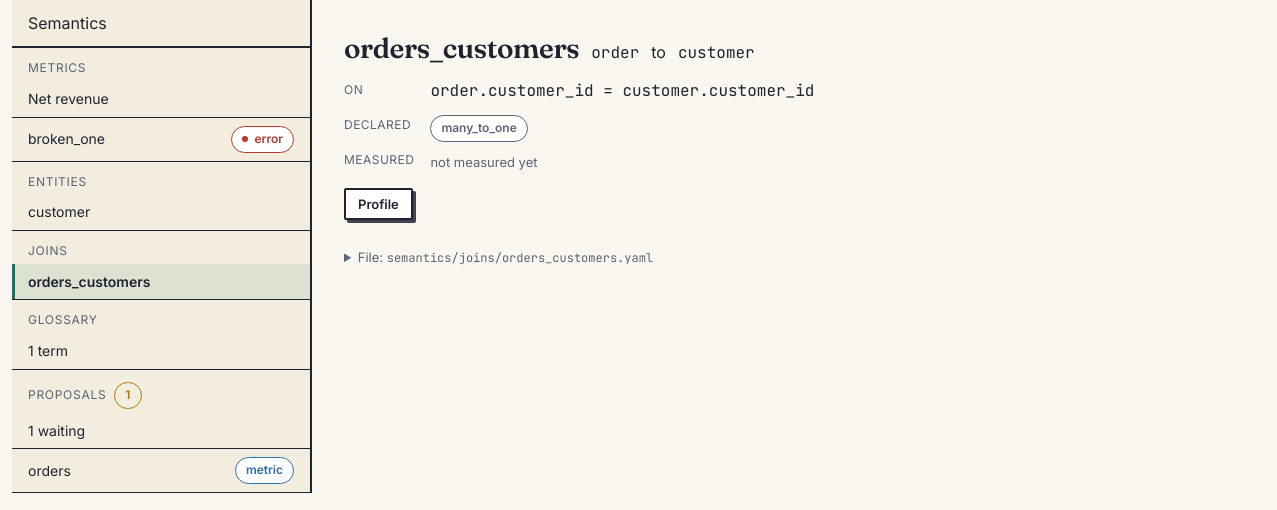
Test: SemanticsView › a stale join file is shown as a conflict, not an error
Click the button with test id "join-profile". click: click(378, 204)
box: x1=344 y1=188 x2=413 y2=220
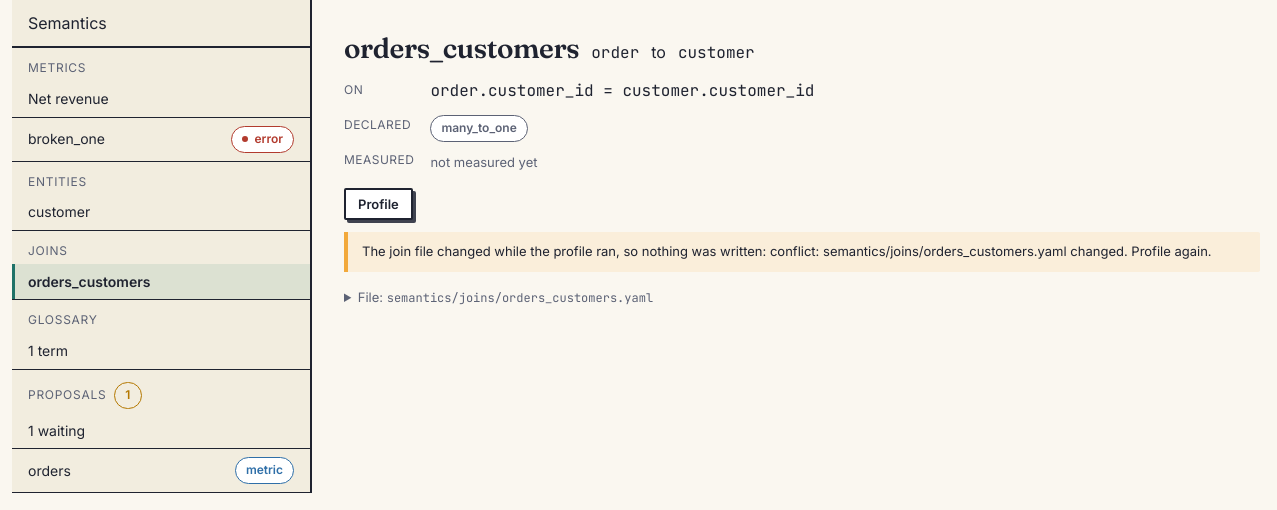
Check: the message with test id "run-conflict" shows "nothing was written", box x1=362 y1=243 x2=1212 y2=259
